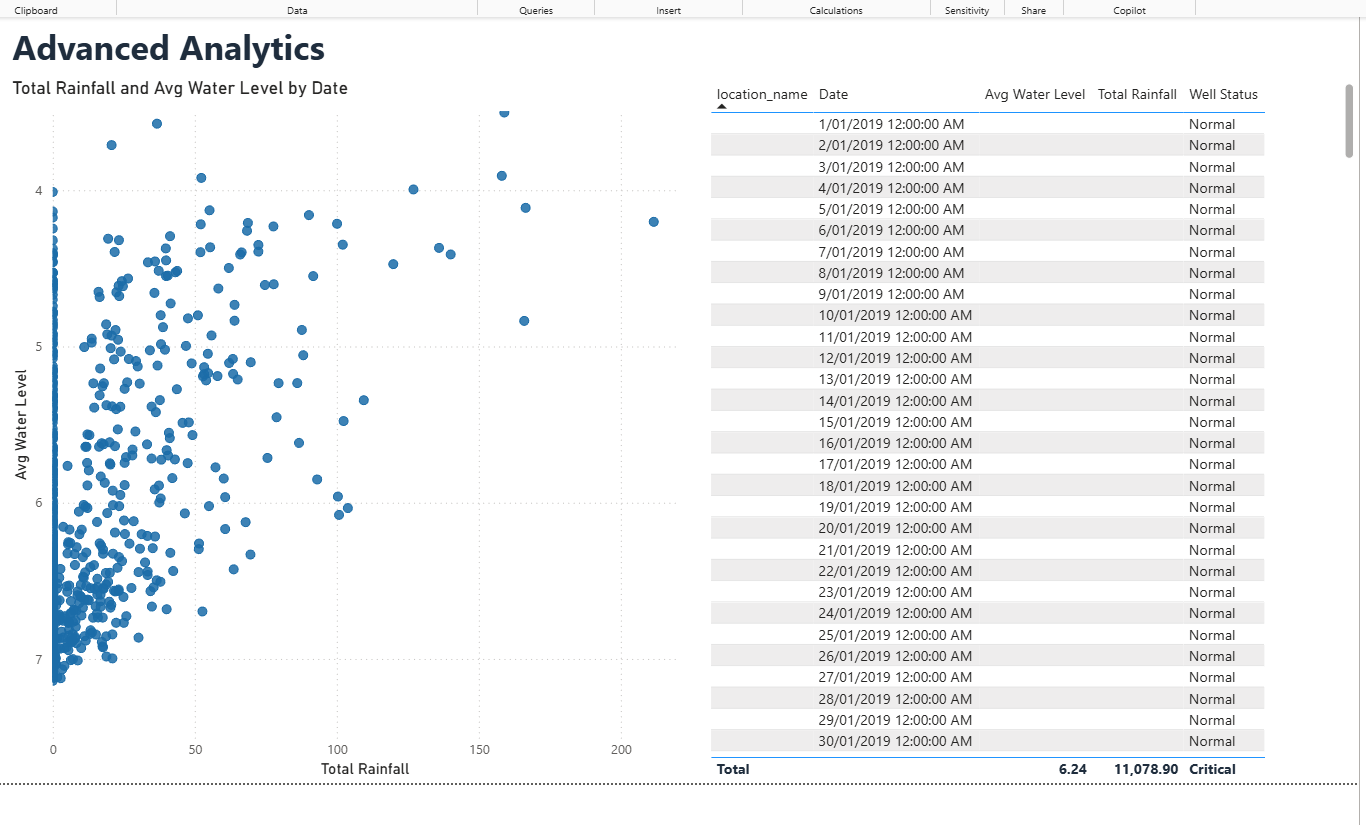

The page's visual inventory and layout, read from the dashboard file:
{"tool":"powerbi","page":{"name":"Advanced Analytics","canvas":[1280,720],"ordinal":2},"visuals":[{"type":"textbox","box":[9.6,0,330.5,71.2],"z":0},{"type":"scatterChart","fields":{"X":["_Measures.Total Rainfall"],"Y":["_Measures.Avg Water Level"],"Category":["Date.Date"]},"box":[9.6,56.7,645.2,663.3],"z":1},{"type":"tableEx","fields":{"Values":["monitoring monitoring_wells.location_name","Date.Date","_Measures.Avg Water Level","_Measures.Total Rainfall","_Measures.Well Status"]},"box":[665,57,615,663],"z":2}]}

Visuals, with their boxes on the page's 1280x720 design canvas (x1, y1, x2, y2). These are canvas units, not pixel positions in the 1366x825 screenshot, which may show the page scaled, cropped or inside an application window:
textbox: {"left": 10, "top": 0, "right": 340, "bottom": 71}
scatterChart - _Measures.Total Rainfall x _Measures.Avg Water Level: {"left": 10, "top": 57, "right": 655, "bottom": 720}
tableEx - monitoring monitoring_wells.location_name x Date.Date: {"left": 665, "top": 57, "right": 1280, "bottom": 720}
